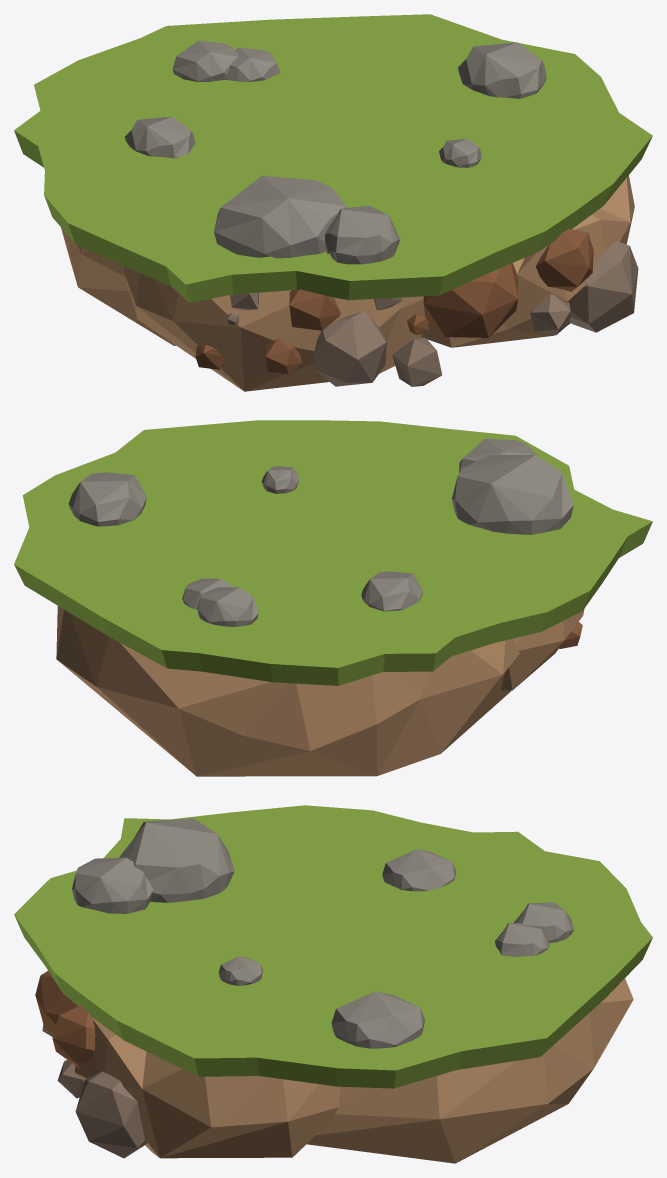
Rendered from Singleplayerisland.fbx.
3 renders of one model, top to bottom at view 1: azimuth 30°, elevation 25°; view 2: azimuth 150°, elevation 25°; view 3: azimuth 270°, elevation 25°, orthographic. The views are drawn at different scales.
Visible parts, largest first — view 1: Icosphere.008; view 2: Icosphere.008; view 3: Icosphere.008.
Boxes of the visible parts, x1=… form: Icosphere.008: x1=14, y1=14, x2=652, y2=391; Icosphere.008: x1=14, y1=420, x2=652, y2=776; Icosphere.008: x1=14, y1=805, x2=652, y2=1163.
Bounding box in the file's own units: 3593 × 1456 × 3662.
